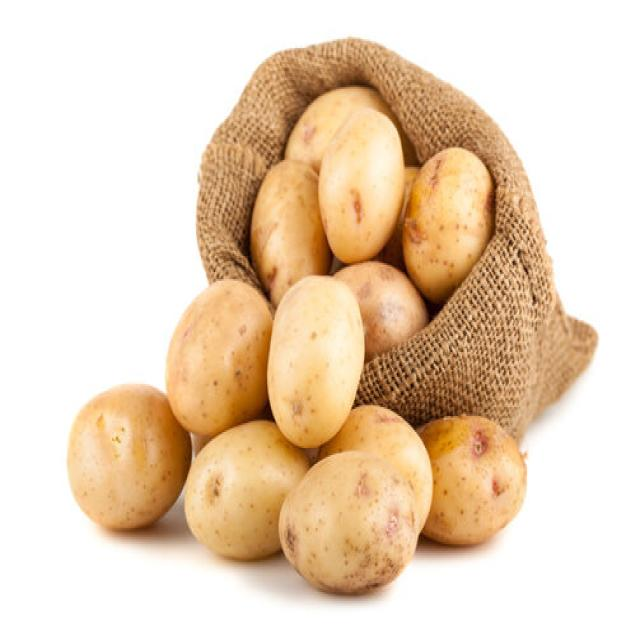Potato: (277, 448, 418, 594), (66, 382, 191, 530), (184, 418, 310, 560), (164, 276, 272, 436), (266, 274, 364, 448), (318, 404, 433, 535), (415, 412, 527, 546), (401, 146, 494, 302), (316, 107, 404, 263), (249, 156, 331, 308), (332, 260, 428, 359), (284, 84, 391, 172)
